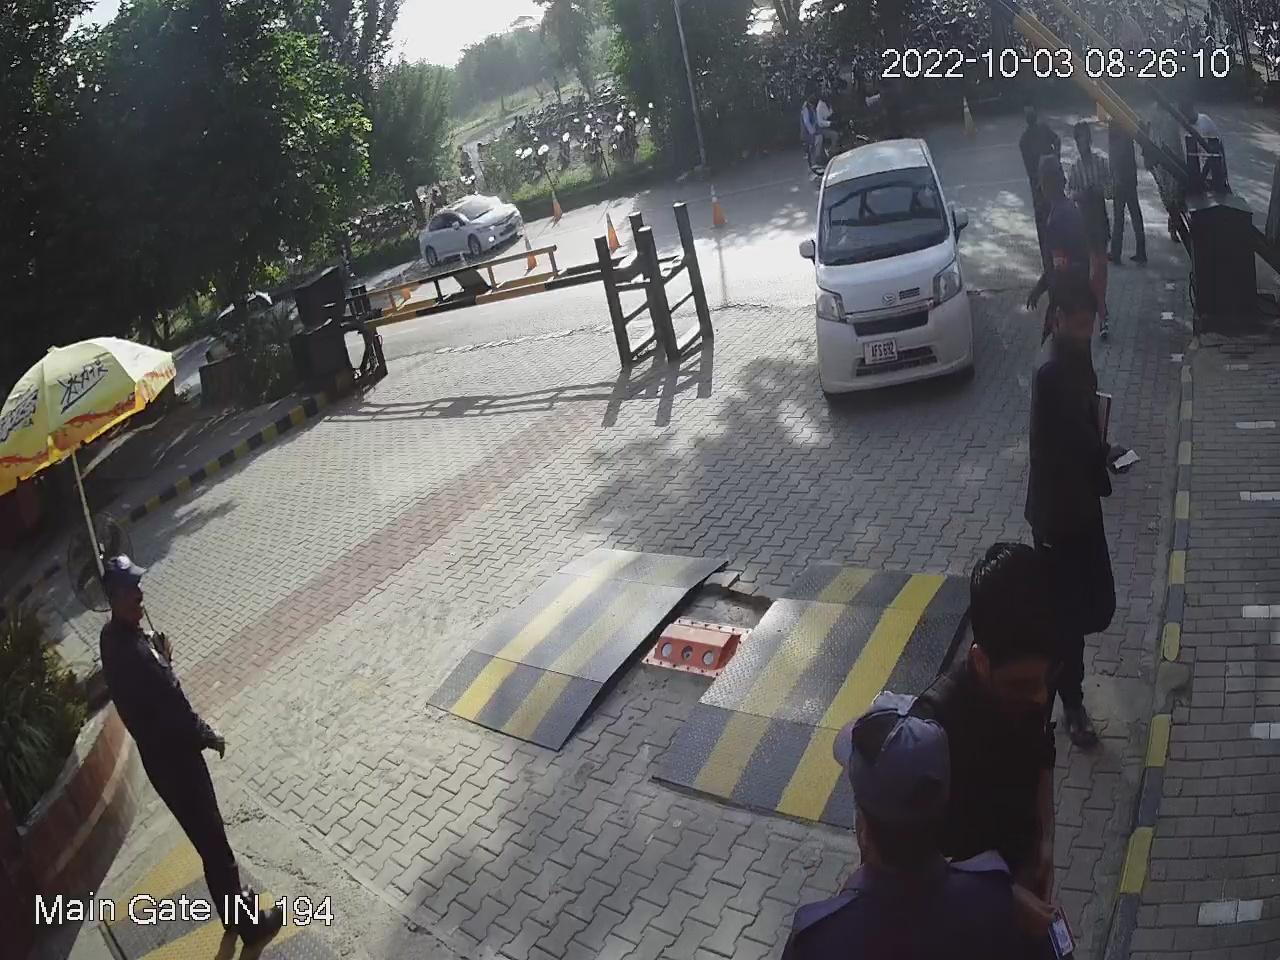windshield: (820, 157, 952, 267)
